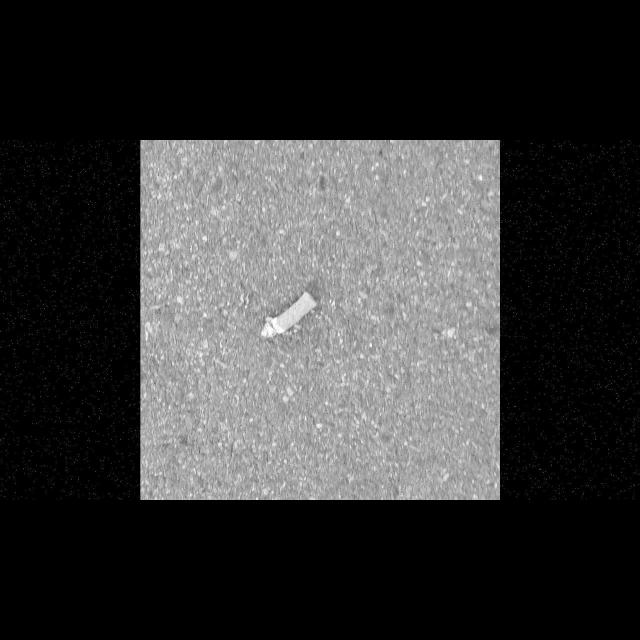cigarette: (260, 291, 318, 338)
